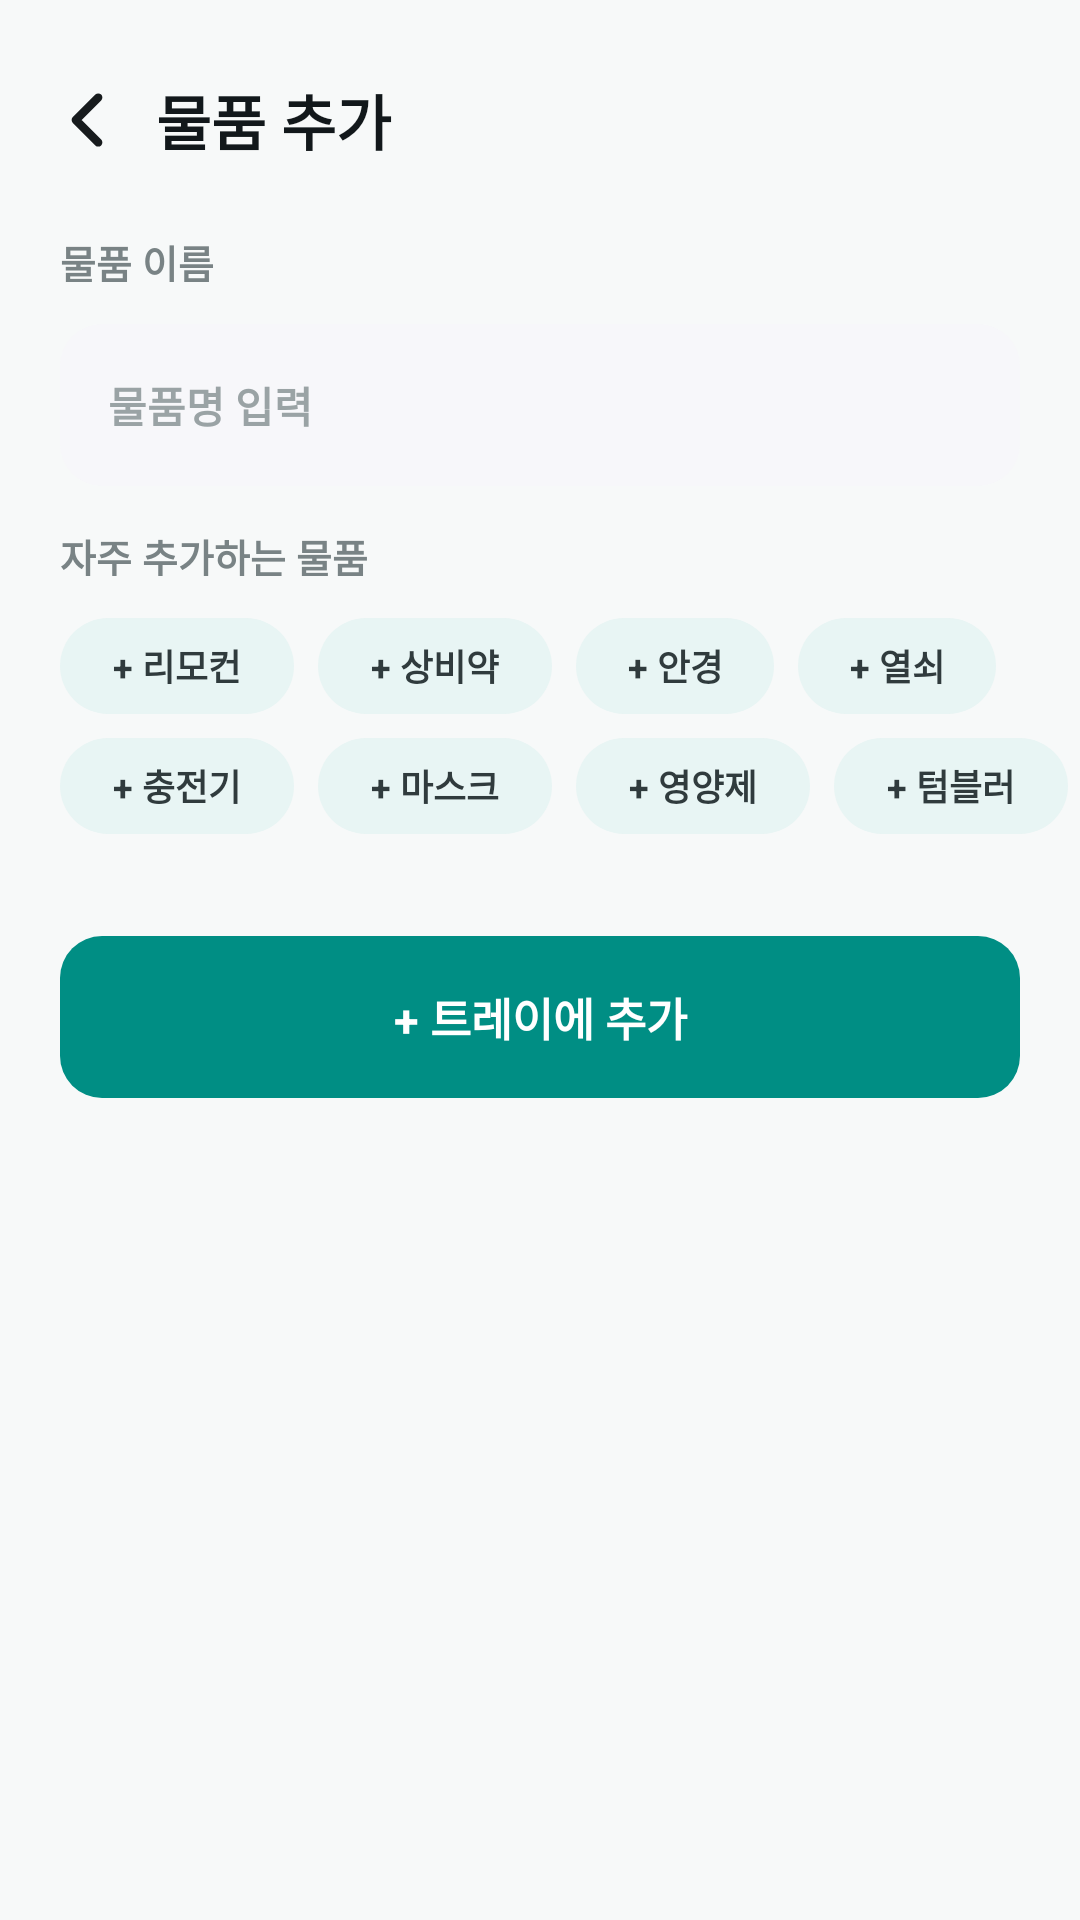

Named icons in this screenshot (1080×1920) and their bounding boxes, (x1, y1, x2, y2):
chevron left: (71, 93, 103, 147)
